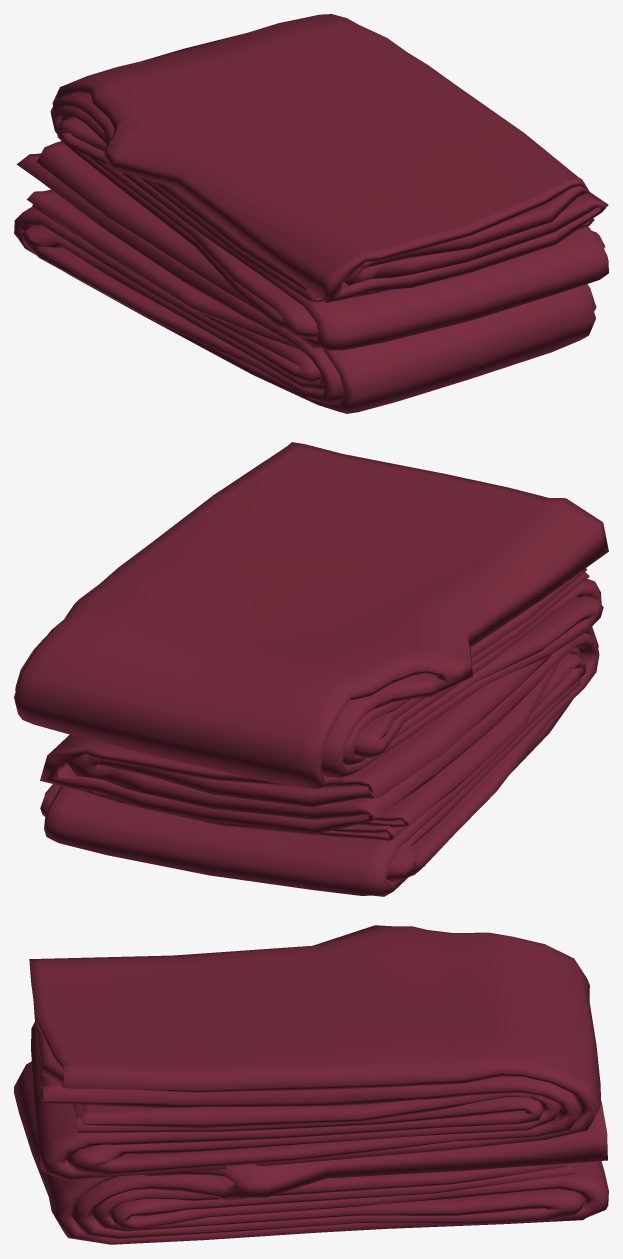
Rendered from Folded_Pant16.fbx.
3 views of the same model, one above another, from view 1: azimuth 30°, elevation 25°; view 2: azimuth 150°, elevation 25°; view 3: azimuth 270°, elevation 25° (orthographic). The views are drawn at different scales.
Visible parts, largest first — view 1: Folded_Pant16; view 2: Folded_Pant16; view 3: Folded_Pant16.
Boxes of the visible parts, x1=… form: Folded_Pant16: x1=14, y1=14, x2=608, y2=413; Folded_Pant16: x1=14, y1=442, x2=608, y2=896; Folded_Pant16: x1=14, y1=925, x2=608, y2=1244.
Size of the model in its own units: 25.78 by 11.41 by 35.19.
